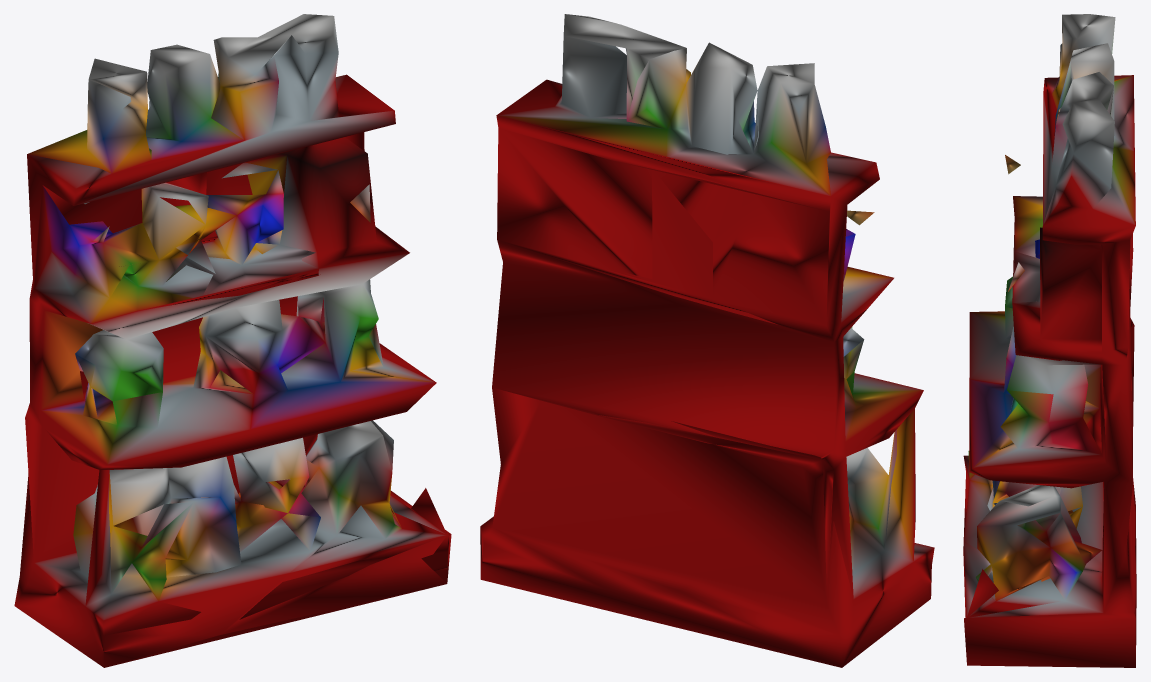
The model's file is gen3d-candy-display-lod1.glb.
3 views of the same model, side by side, from view 1: azimuth 30°, elevation 25°; view 2: azimuth 150°, elevation 25°; view 3: azimuth 270°, elevation 25° (orthographic). The views are drawn at different scales.
Visible parts, largest first — view 1: part_0; view 2: part_0; view 3: part_0.
Part boxes in pixels (x1,y1,x2,y2): part_0: [14, 14, 451, 667]; part_0: [480, 14, 934, 667]; part_0: [963, 14, 1136, 667].
Size of the model in its own units: 0.6749 by 0.9972 by 0.3012.
